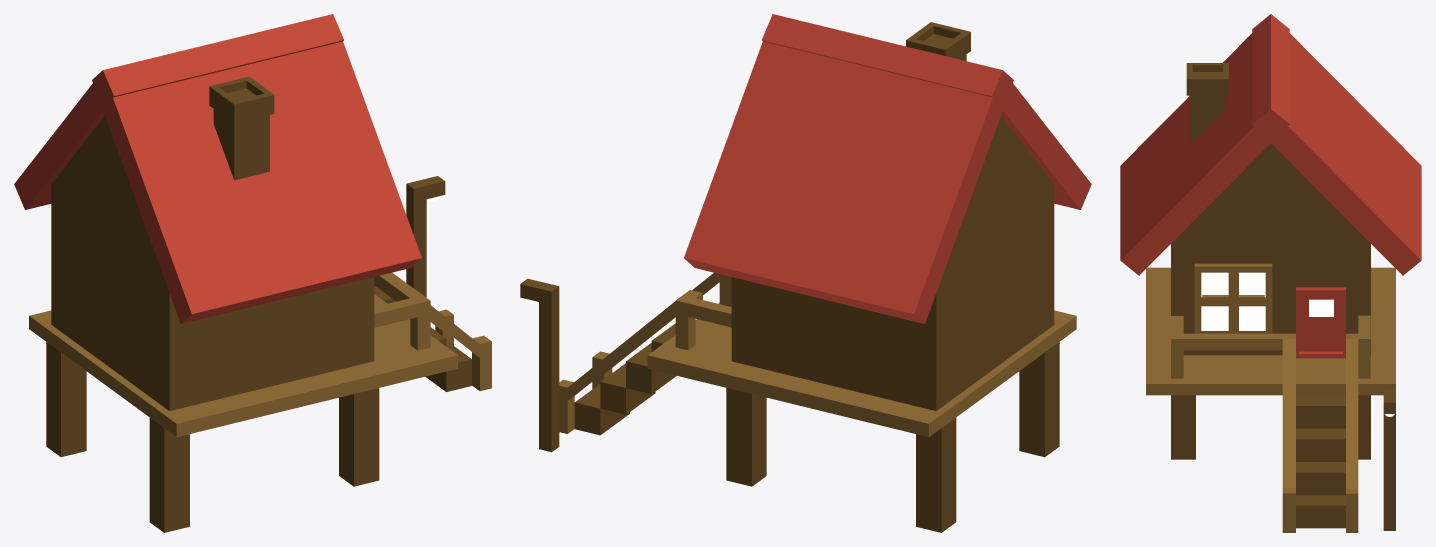
File: house.fbx
3 renders of one model, left to right at view 1: azimuth 30°, elevation 25°; view 2: azimuth 150°, elevation 25°; view 3: azimuth 270°, elevation 25°, orthographic. The views are drawn at different scales.
Visible parts, largest first — view 1: Roof, House, Foundation, Legs, Chimney, Railings, Light Pole, Stairs; view 2: Roof, House, Foundation, Legs, Railings, Stairs, Light Pole, Chimney; view 3: Roof, House, Foundation, Railings, Stairs, Window, Door, Window Inside, Chimney, Legs, Light Pole, Door Window.
Part boxes in pixels (x1,y1,x2,y2): Roof: (14,14,421,323); House: (51,116,374,411); Foundation: (29,294,457,436); Legs: (46,342,379,532); Chimney: (209,76,274,180); Railings: (374,272,491,391); Light Pole: (406,176,445,297); Stairs: (374,285,471,391); Roof: (684,14,1091,323); House: (731,116,1054,410); Foundation: (647,303,1076,436); Legs: (726,342,1059,532); Railings: (559,272,731,433); Stairs: (574,323,676,435); Light Pole: (520,278,559,452); Chimney: (906,22,970,61); Roof: (1120,14,1421,275); House: (1171,143,1370,355); Foundation: (1146,267,1395,395); Railings: (1171,315,1370,532); Stairs: (1296,395,1345,528); Window: (1194,263,1272,333); Door: (1296,287,1345,358); Window Inside: (1201,272,1265,330); Chimney: (1186,63,1228,144); Legs: (1171,395,1370,459); Light Pole: (1383,389,1395,530); Door Window: (1309,299,1333,316).
Bounding box in the file's own units: 1598 × 1570 × 1203.
